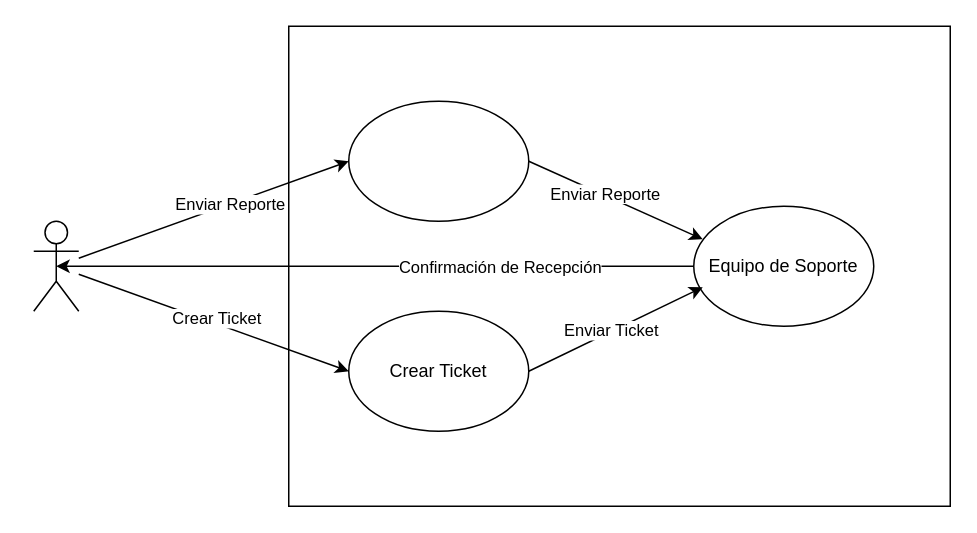
Some shapes in this 977 by 533 pixel diagram are drawn without their labels. Each missing label, with the centre of its shape:
"Formulario de Reporte" goes at (438,160).
"Usuario" goes at (55,265).
